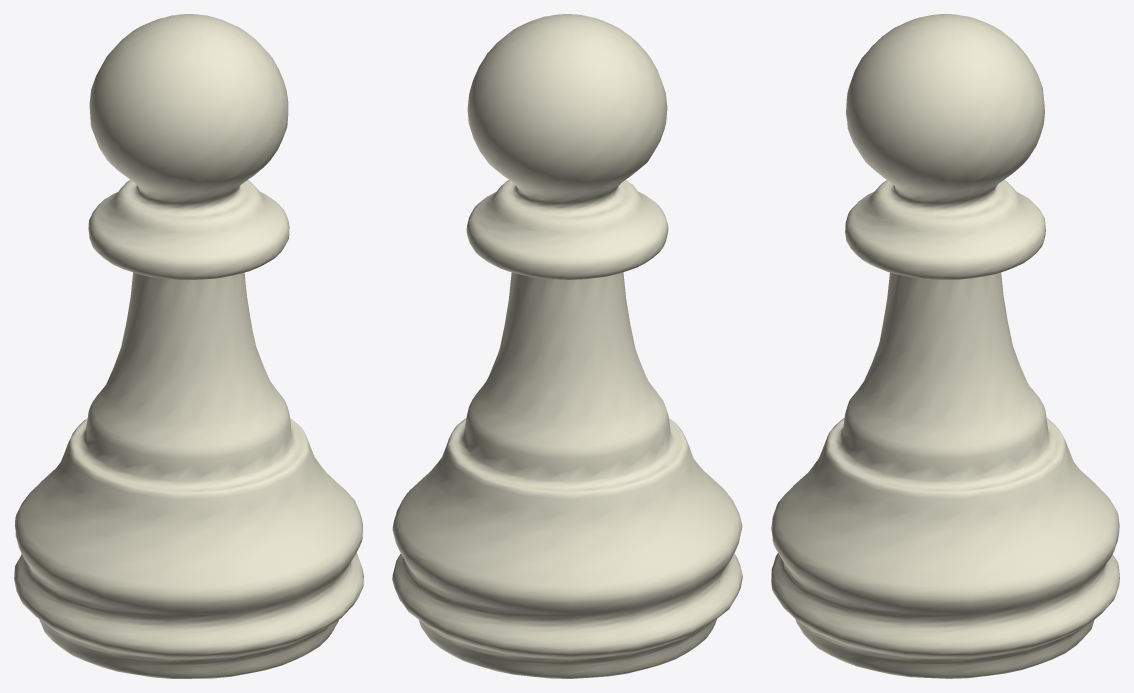
The picture shows the model from 3 angles, left to right: view 1: azimuth 30°, elevation 25°; view 2: azimuth 150°, elevation 25°; view 3: azimuth 270°, elevation 25°; orthographic projection.
Parts seen in each view (by area): view 1: Porn_13_2; view 2: Porn_13_2; view 3: Porn_13_2.
Boxes of the visible parts, x1,y1,x2,y2 form: Porn_13_2: (14,14,363,678); Porn_13_2: (392,14,742,678); Porn_13_2: (771,14,1119,678).
Size of the model in its own units: 0.254 by 0.4783 by 0.254.
